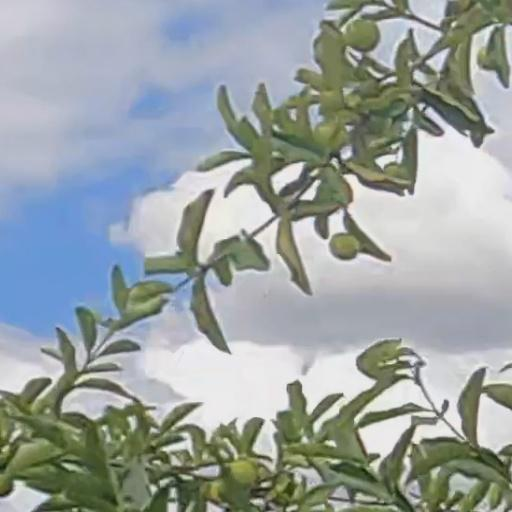acerola_verde: (346, 20, 380, 52), (330, 233, 360, 258), (231, 462, 261, 485)
